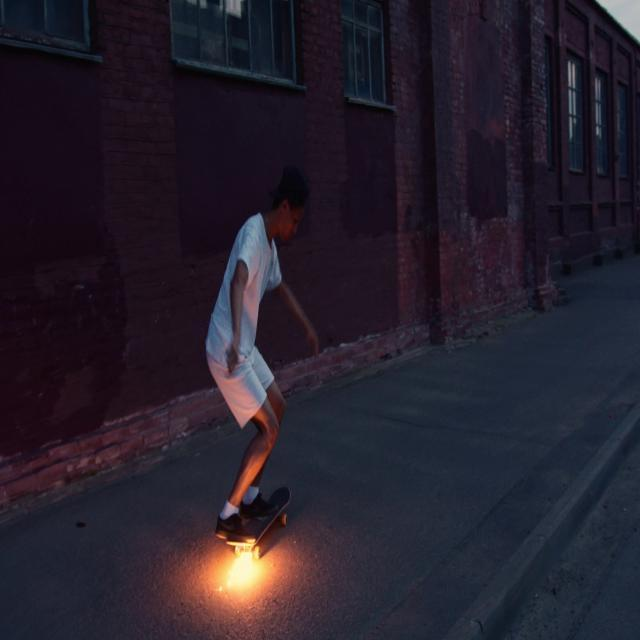Fire: (222, 544, 267, 587)
